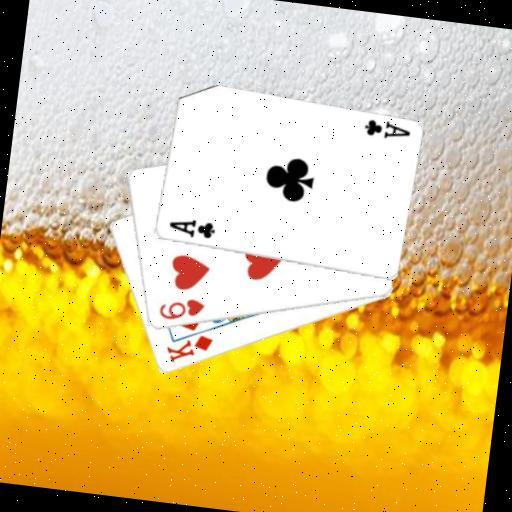6H: (155, 292, 207, 325)
AC: (165, 214, 217, 243), (360, 115, 413, 143)
KD: (161, 329, 215, 370)
